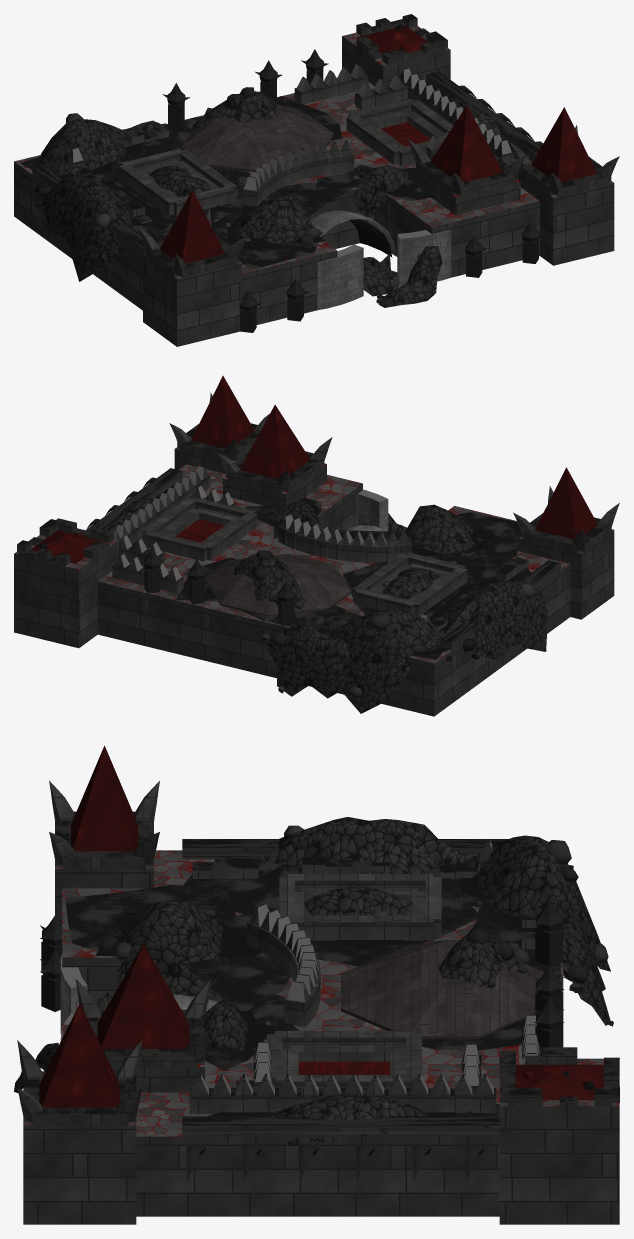
Rendered from Tarbuild03a.glb.
The picture shows the model from 3 angles, top to bottom: view 1: azimuth 30°, elevation 25°; view 2: azimuth 150°, elevation 25°; view 3: azimuth 270°, elevation 25°; orthographic projection. The views are drawn at different scales.
Parts seen in each view (by area): view 1: Tarbuild03a; view 2: Tarbuild03a; view 3: Tarbuild03a.
Boxes of the visible parts, bbox=[...] form: Tarbuild03a: bbox=[14, 14, 619, 346]; Tarbuild03a: bbox=[14, 376, 619, 716]; Tarbuild03a: bbox=[14, 745, 619, 1224].
Size of the model in its own units: 21.7 by 6.52 by 17.17.
Materials: 20 (10 with a texture image).
